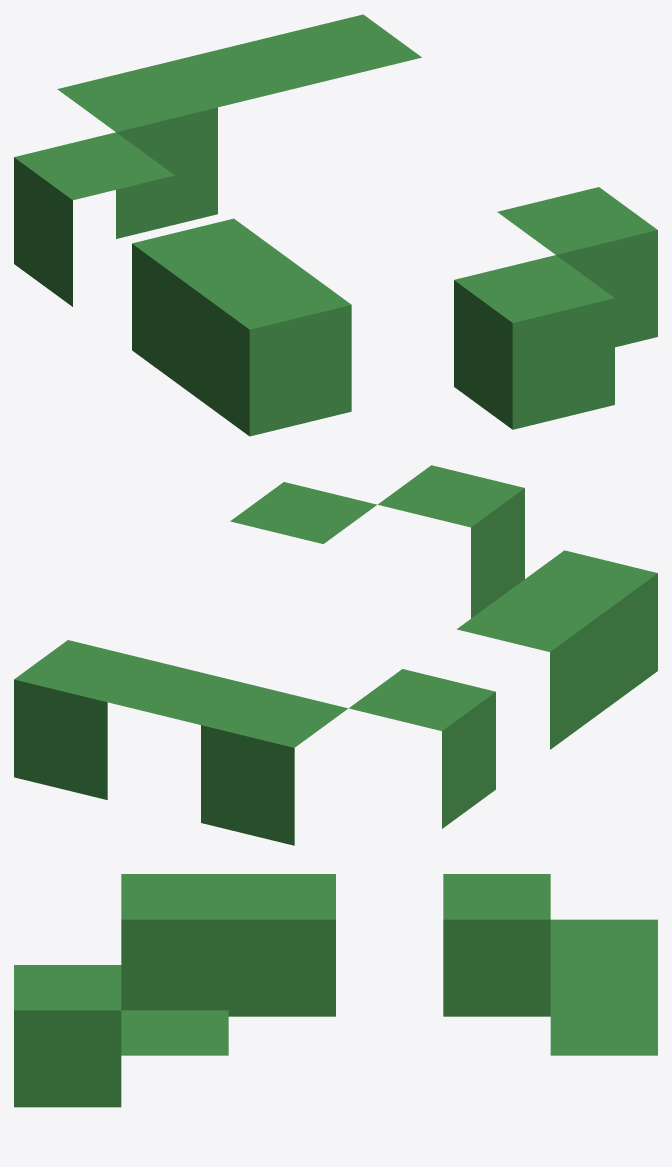
File: tree-pine-0p9-4a9a4e.gltf
3 renders of one model, top to bottom at view 1: azimuth 30°, elevation 25°; view 2: azimuth 150°, elevation 25°; view 3: azimuth 270°, elevation 25°, orthographic. The views are drawn at different scales.
Parts seen in each view (by area): view 1: tree-pine-0p9-4a9a4e; view 2: tree-pine-0p9-4a9a4e; view 3: tree-pine-0p9-4a9a4e.
Boxes of the visible parts, x1,y1,x2,y2 form: tree-pine-0p9-4a9a4e: (14,14,657,436); tree-pine-0p9-4a9a4e: (14,465,657,845); tree-pine-0p9-4a9a4e: (14,874,657,1107).
Size of the model in its own units: 4 by 1 by 6.
